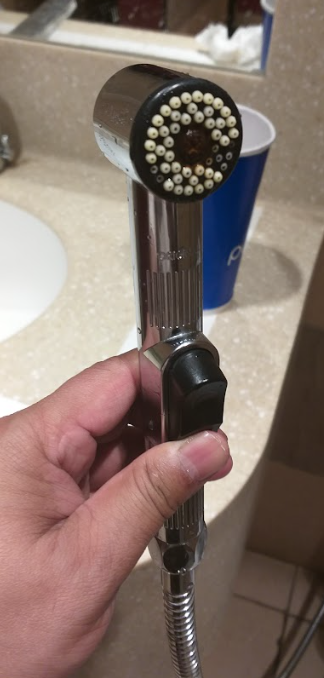Toilet: (52, 57, 304, 656)
